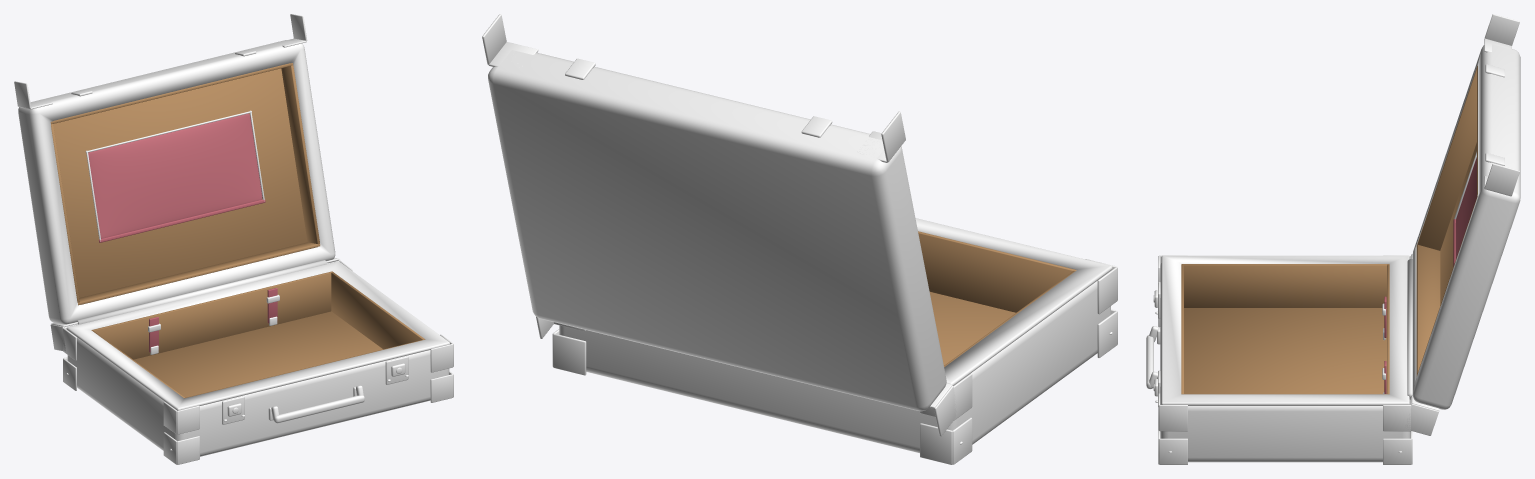
The model's file is sc_suitcase.glb.
3 views of the same model, side by side, from view 1: azimuth 30°, elevation 25°; view 2: azimuth 150°, elevation 25°; view 3: azimuth 270°, elevation 25° (orthographic). The views are drawn at different scales.
Visible parts, largest first — view 1: LidLining_Top, Lid_Shell, Base_Shell, LidPocket, Lining_Floor, Rim_Welt, Lining_Back, Lining_R, LidLining_R, LidLining_Back, Hinge_Pin, LidLining_Front (+7 smaller); view 2: Lid_Shell, Base_Shell, Lining_Front, Rim_Welt, Lining_Floor, BaseCorner_11_a, BaseCorner_-11_a, LidCorner_-11_b, BaseCornerTop_-1-1_b, BaseCorner_-11_b, BaseCorner_-1-1_b, LidCorner_11_b (+2 smaller); view 3: Lining_Floor, Lid_Shell, Base_Shell, Rim_Welt, Lining_L, LidLining_L, LidLining_Back, LidLining_Top, LidPocket, Hinge_Pin, LidCorner_11_b, BaseCornerTop_1-1_b (+7 smaller).
Part boxes in pixels (x1,y1,x2,y2): LidLining_Top: [53, 68, 307, 297]; Lid_Shell: [18, 40, 335, 324]; Base_Shell: [67, 337, 449, 456]; LidPocket: [88, 113, 262, 238]; Lining_Floor: [133, 311, 382, 397]; Rim_Welt: [66, 261, 450, 410]; Lining_Back: [92, 271, 332, 359]; Lining_R: [331, 272, 424, 349]; LidLining_R: [281, 64, 319, 245]; LidLining_Back: [78, 242, 319, 305]; Hinge_Pin: [77, 260, 326, 324]; LidLining_Front: [50, 63, 292, 124]; Lid_Shell: [488, 50, 946, 411]; Base_Shell: [559, 281, 1110, 453]; Lining_Front: [918, 231, 1076, 312]; Rim_Welt: [915, 218, 1112, 385]; Lining_Floor: [929, 292, 1015, 365]; BaseCorner_11_a: [553, 333, 586, 375]; BaseCorner_-11_a: [920, 423, 952, 464]; LidCorner_-11_b: [881, 111, 905, 162]; BaseCornerTop_-1-1_b: [1097, 267, 1117, 314]; BaseCorner_-11_b: [952, 417, 972, 464]; BaseCorner_-1-1_b: [1097, 311, 1117, 357]; LidCorner_11_b: [482, 14, 506, 64]; Lining_Floor: [1184, 308, 1386, 393]; Lid_Shell: [1412, 44, 1520, 409]; Base_Shell: [1160, 263, 1410, 462]; Rim_Welt: [1161, 255, 1409, 405]; Lining_L: [1181, 264, 1388, 307]; LidLining_L: [1417, 68, 1476, 250]; LidLining_Back: [1416, 244, 1440, 376]; LidLining_Top: [1440, 142, 1476, 305]; LidPocket: [1455, 157, 1476, 259]; Hinge_Pin: [1407, 259, 1412, 399]; LidCorner_11_b: [1484, 163, 1519, 195]; BaseCornerTop_1-1_b: [1159, 405, 1187, 431].
Size of the model in its own units: 1.06 by 0.9848 by 1.11.
